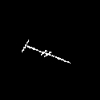treble_crochet: (22, 40, 68, 62)
